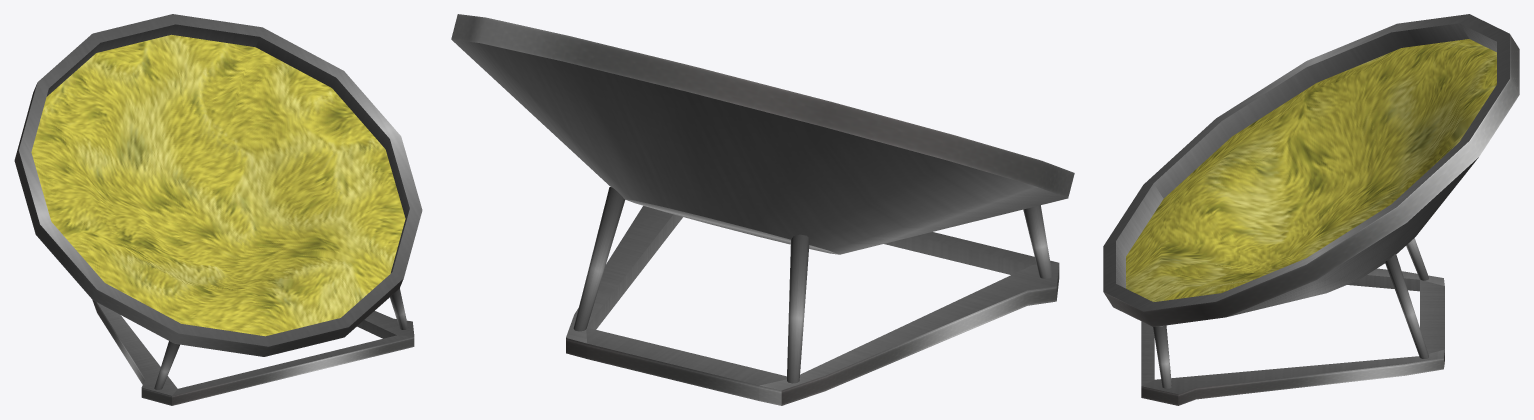
File: Saucer_Chair_06.FBX
3 views of the same model, side by side, from view 1: azimuth 30°, elevation 25°; view 2: azimuth 150°, elevation 25°; view 3: azimuth 270°, elevation 25° (orthographic). The views are drawn at different scales.
Parts seen in each view (by area): view 1: Saucer Chair; view 2: Saucer Chair; view 3: Saucer Chair.
Part boxes in pixels (bbox=[...]): Saucer Chair: bbox=[14, 14, 422, 405]; Saucer Chair: bbox=[451, 14, 1074, 405]; Saucer Chair: bbox=[1103, 14, 1519, 405].
Size of the model in its own units: 200 by 125 by 173.
